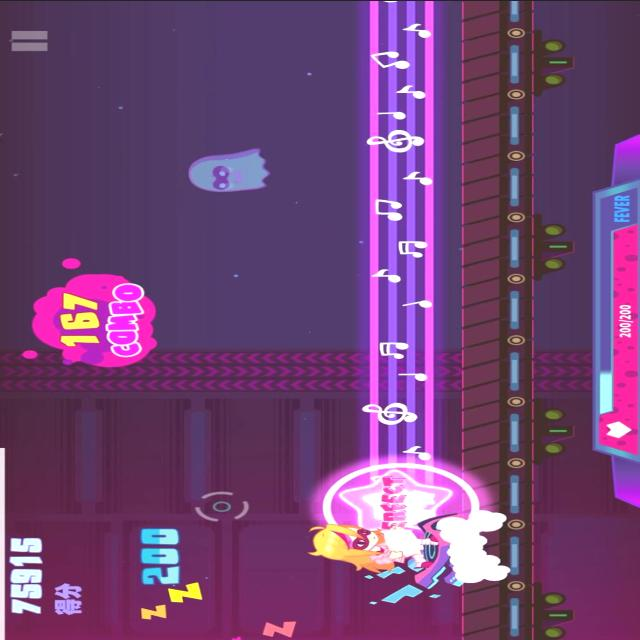gui: (184, 144, 276, 192)
hold: (343, 0, 443, 532)
